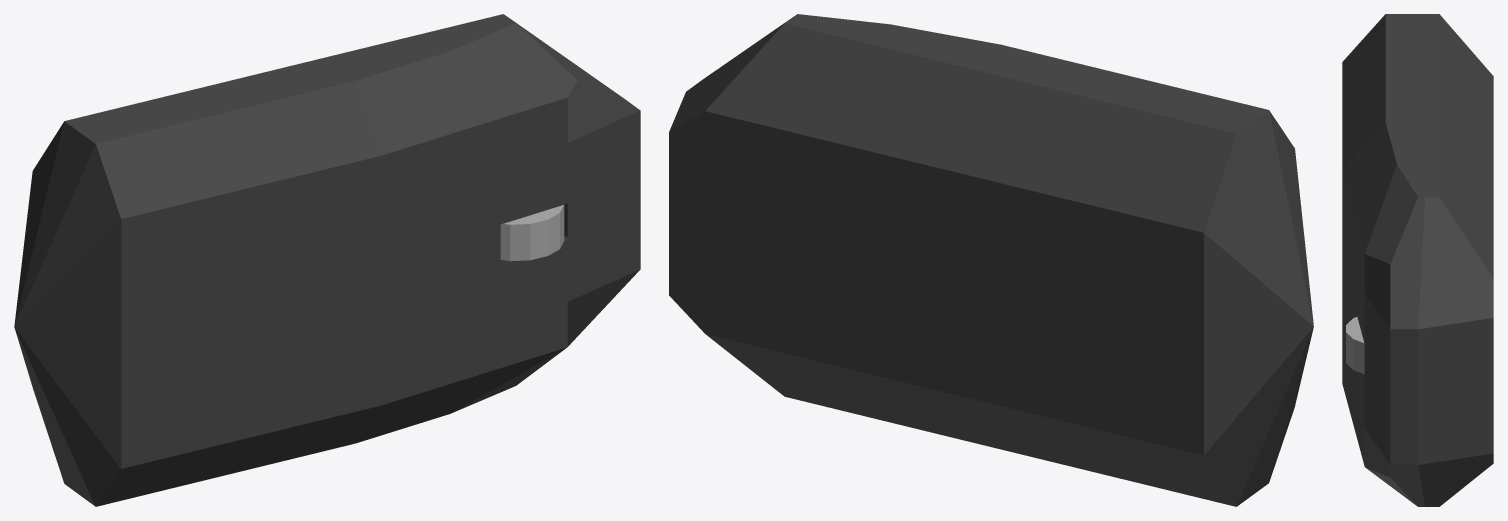
3 renders of one model, left to right at view 1: azimuth 30°, elevation 25°; view 2: azimuth 150°, elevation 25°; view 3: azimuth 270°, elevation 25°, orthographic. The views are drawn at different scales.
Visible parts, largest first — view 1: Cube, Cylinder; view 2: Cube; view 3: Cube, Cylinder.
Boxes of the visible parts, x1,y1,x2,y2 form: Cube: (14, 14, 640, 506); Cylinder: (500, 205, 564, 261); Cube: (669, 14, 1313, 506); Cube: (1342, 14, 1493, 506); Cylinder: (1346, 317, 1364, 374).
Bounding box in the file's own units: 3.76 × 2.13 × 0.9452.
2 materials, 2 textured.
